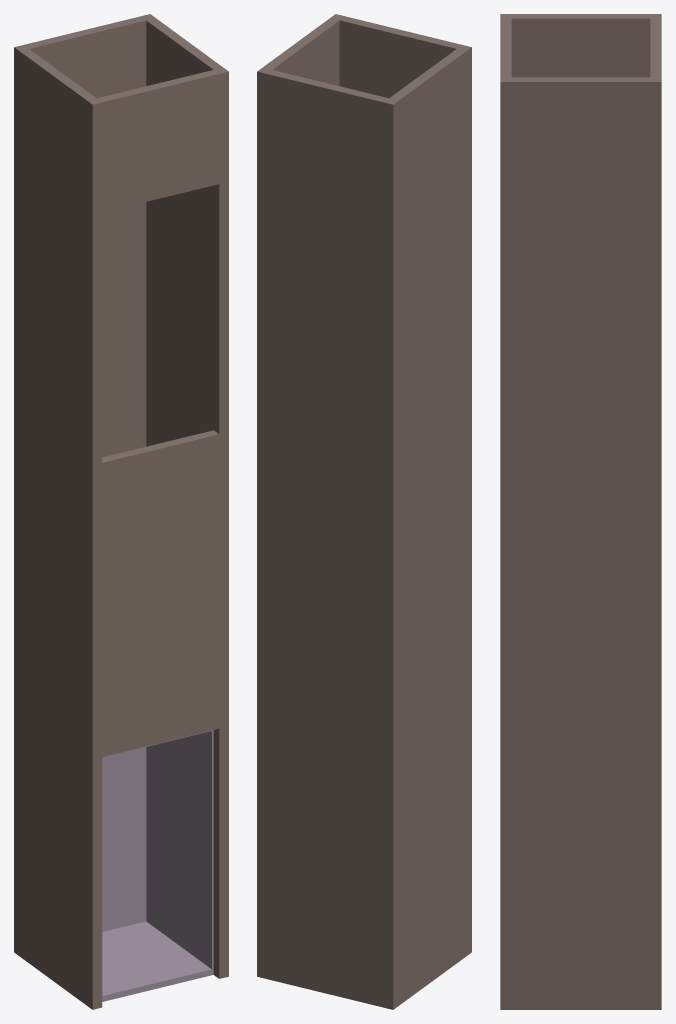
The model's file is elevator.fbx.
3 views of the same model, side by side, from view 1: azimuth 30°, elevation 25°; view 2: azimuth 150°, elevation 25°; view 3: azimuth 270°, elevation 25° (orthographic). The views are drawn at different scales.
Visible parts, largest first — view 1: Cube, Cube.001; view 2: Cube; view 3: Cube.
Part boxes in pixels (x1,y1,x2,y2): Cube: [14, 14, 228, 1009]; Cube.001: [102, 730, 213, 1001]; Cube: [257, 14, 471, 1009]; Cube: [500, 14, 661, 1009].
Size of the model in its own units: 259 by 1646 by 259.
